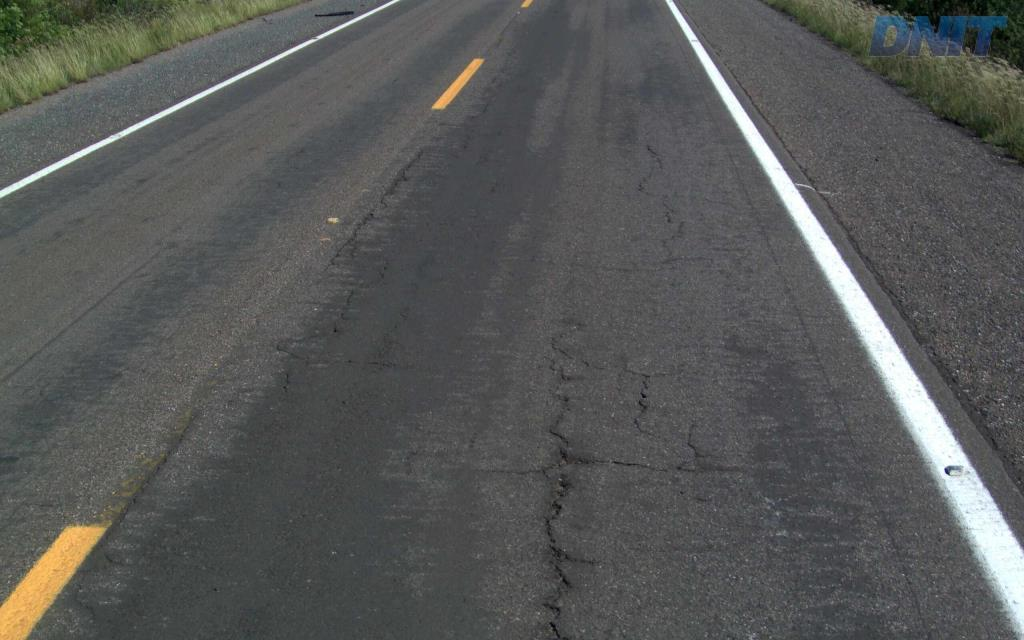crack: (541, 544, 577, 619)
